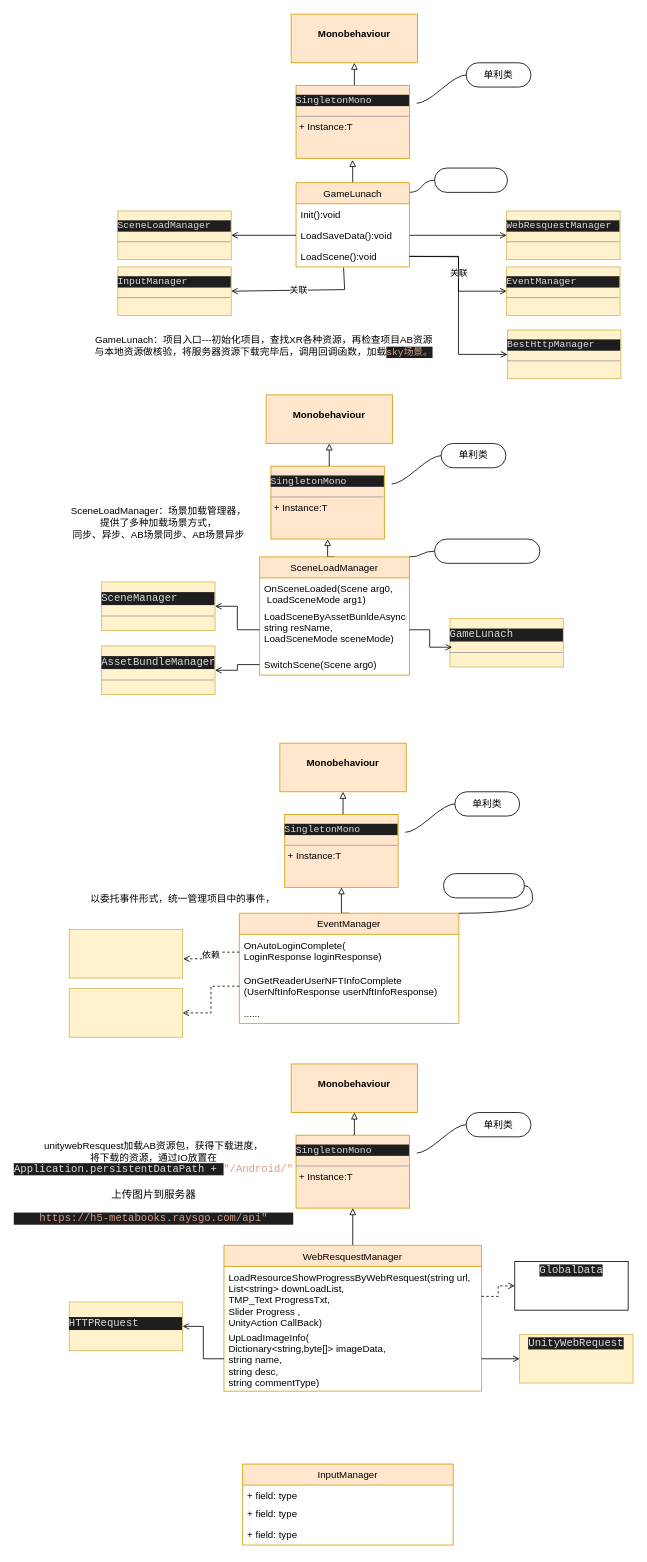
Some shapes in this 647 by 1562 pixel diagram are drawn without their labels. The centre of each missing label's shape, as x and y in pixels:
"LoginResponse" goes at point (125, 953).
"UserNftInfoResponse" goes at point (125, 1012).
"事件管理器" goes at point (483, 885).
"场景加载管理器" goes at point (487, 550).
"项目入口" goes at point (470, 179).
